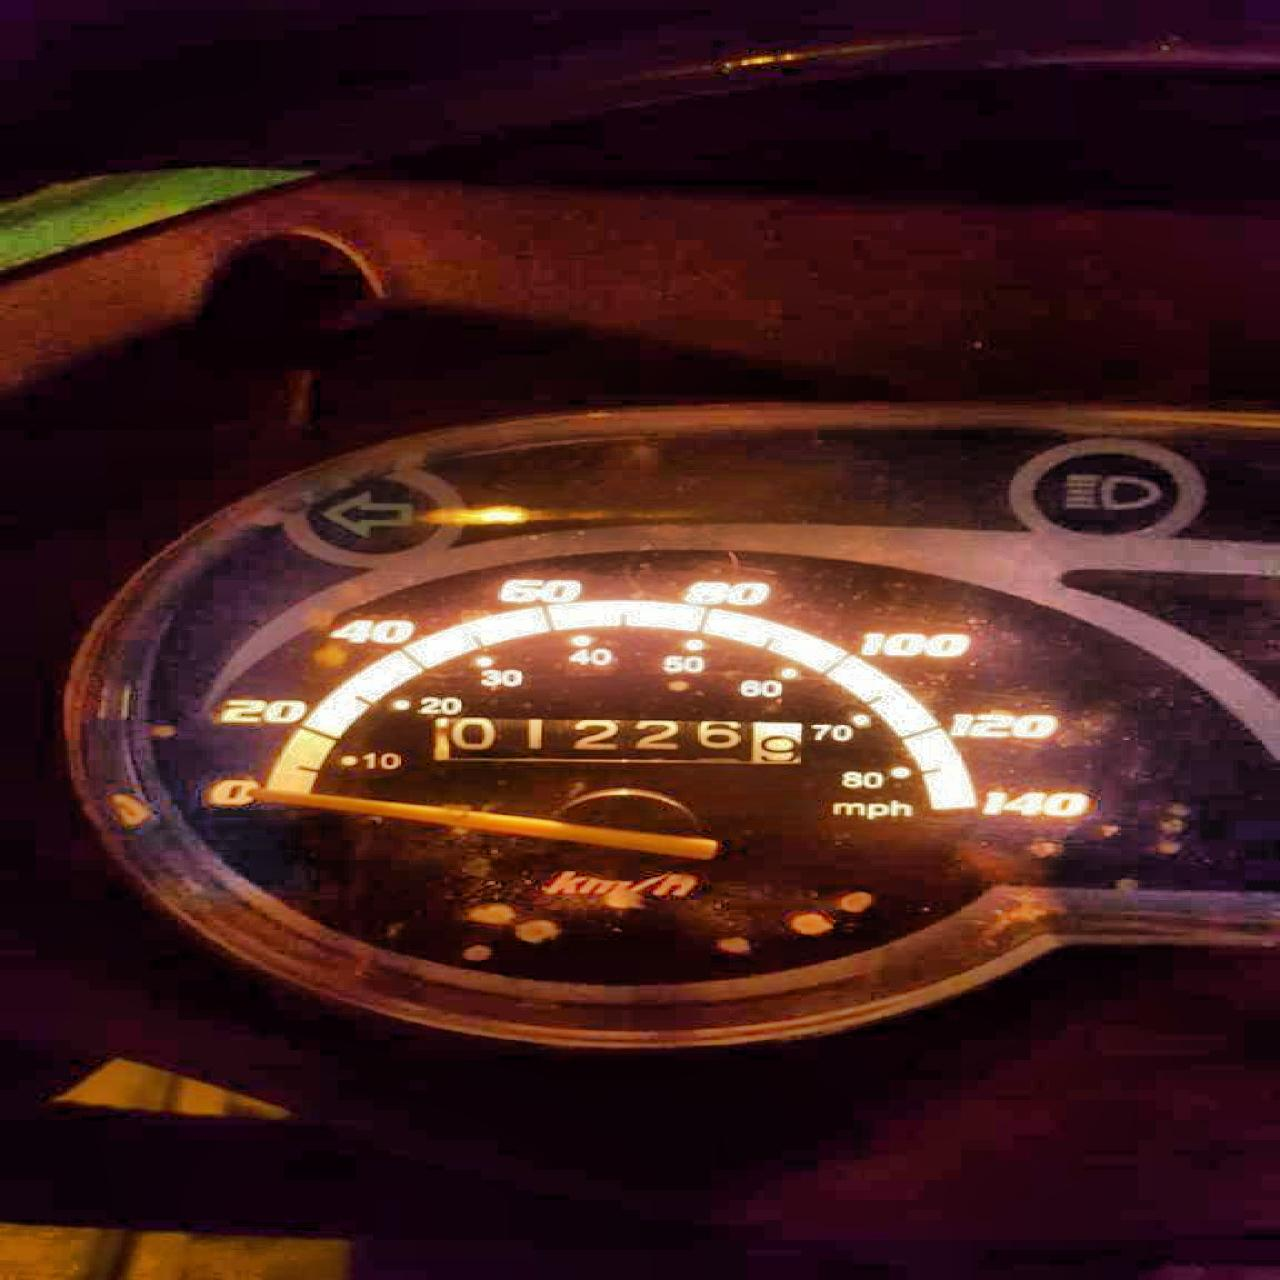0: (444, 716, 493, 750)
1: (516, 716, 549, 751)
2: (567, 717, 620, 750), (631, 717, 682, 750)
6: (692, 719, 744, 750)
9: (751, 734, 799, 764)
odometer: (417, 712, 806, 769)
